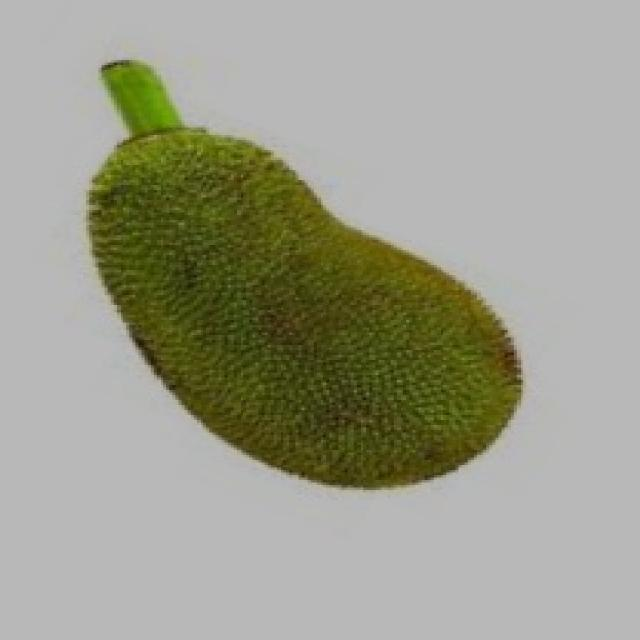Fruit: (126, 133, 548, 515)
